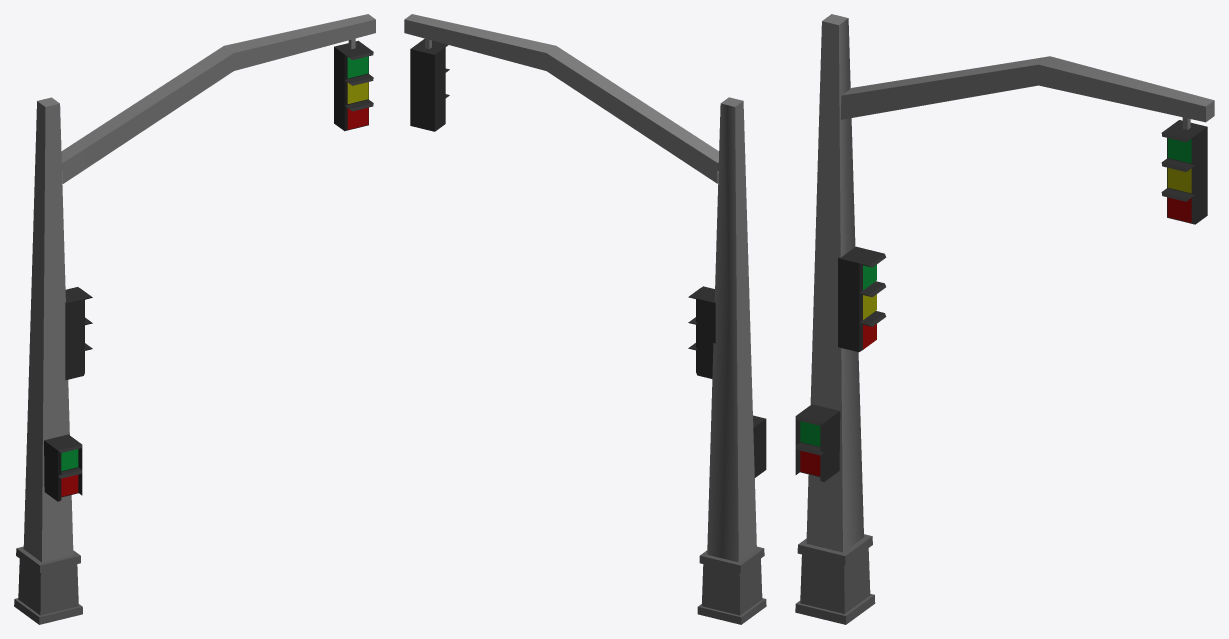
File: Prop_TrafficLights_Mod_02.fbx
3 views of the same model, side by side, from view 1: azimuth 30°, elevation 25°; view 2: azimuth 150°, elevation 25°; view 3: azimuth 330°, elevation 25° (orthographic). The views are drawn at different scales.
Parts seen in each view (by area): view 1: Pole, Lights1, Crossing, Lights; view 2: Pole, Lights1, Lights, Crossing; view 3: Pole, Lights1, Lights, Crossing.
Boxes of the visible parts, <box> form: Pole: <box>14,14,375,624</box>; Lights1: <box>334,40,373,131</box>; Crossing: <box>44,434,82,501</box>; Lights: <box>65,287,92,380</box>; Pole: <box>404,14,766,624</box>; Lights1: <box>410,38,449,131</box>; Lights: <box>688,286,715,378</box>; Crossing: <box>753,415,766,477</box>; Pole: <box>795,14,1214,624</box>; Lights1: <box>1161,120,1207,224</box>; Lights: <box>838,246,886,352</box>; Crossing: <box>795,404,840,481</box>.
Size of the model in its own units: 3.41 by 4.88 by 0.6118.
